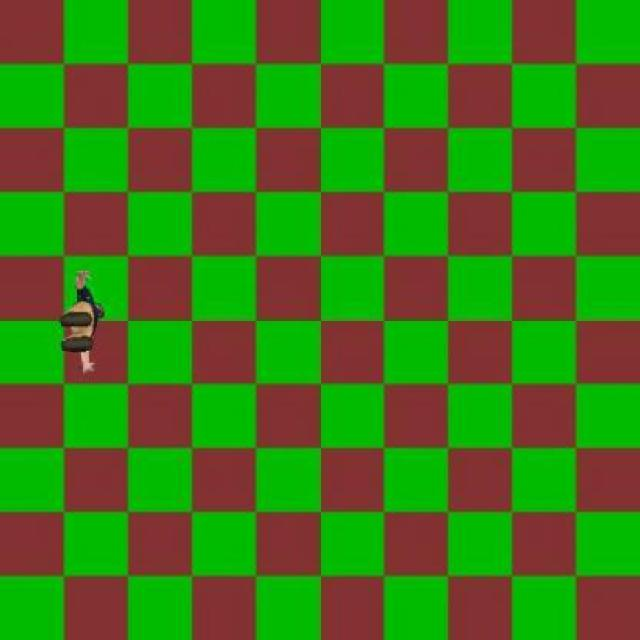Person: (56, 260, 110, 385)
